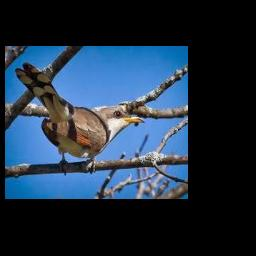Cuckoo: (16, 62, 145, 164)
